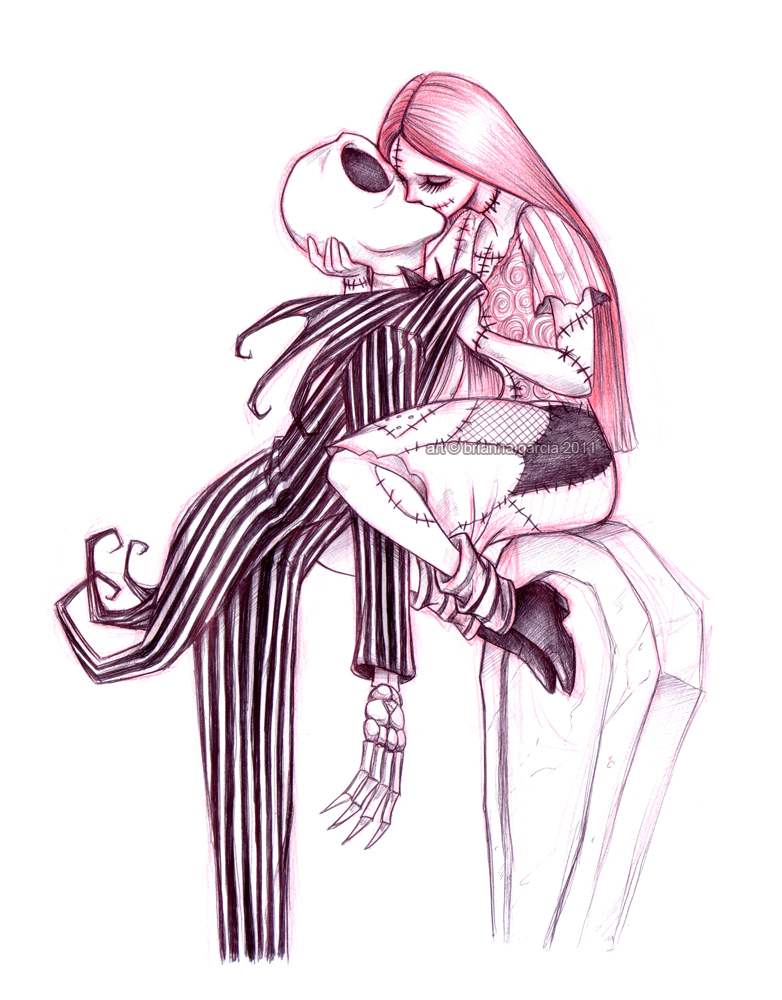Jack Skellington: (53, 129, 492, 964)
